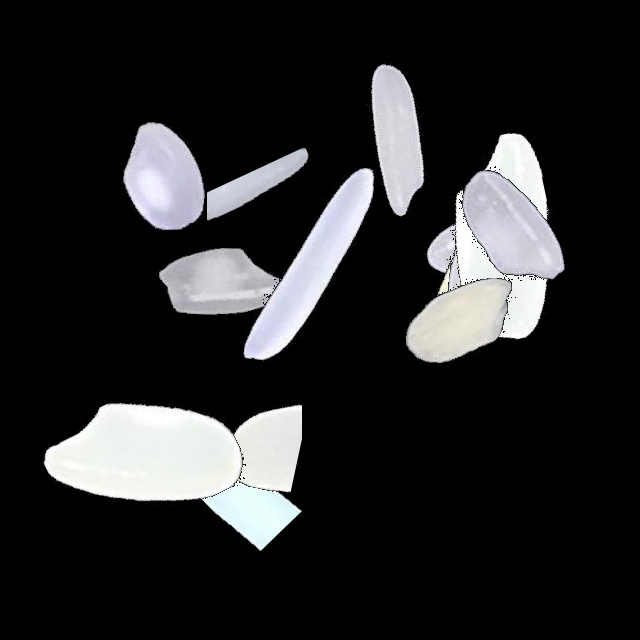Broken: (100, 402, 350, 555), (419, 99, 557, 349), (207, 107, 335, 357), (205, 308, 302, 558), (364, 477, 614, 562)
Full: (39, 49, 289, 299), (97, 157, 347, 407), (366, 117, 616, 367), (354, 126, 604, 376), (270, 14, 520, 264), (183, 139, 433, 389), (17, 334, 267, 584), (377, 114, 627, 364), (332, 194, 582, 444), (387, 106, 637, 356)
